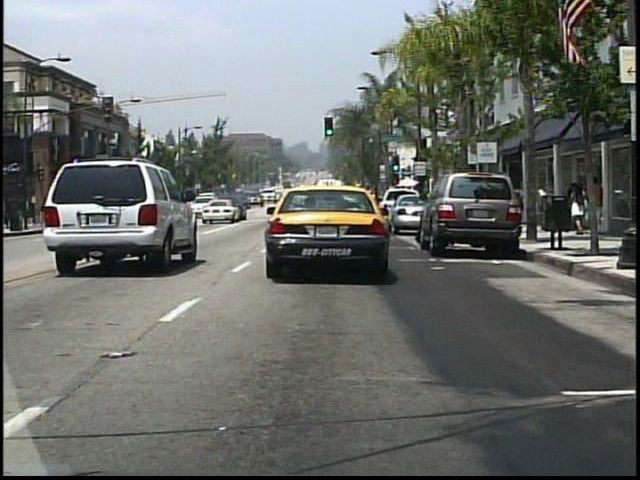person: (569, 181, 587, 238), (565, 179, 583, 233), (597, 172, 598, 233)
